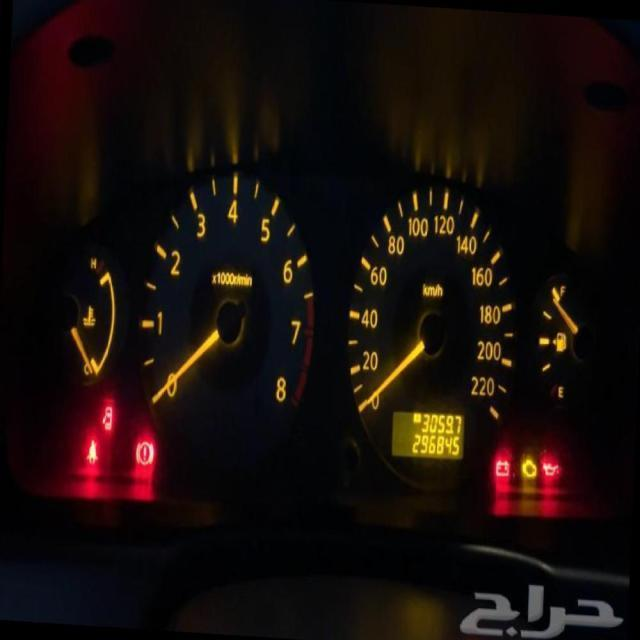Seat Belt: (86, 440, 99, 466)
